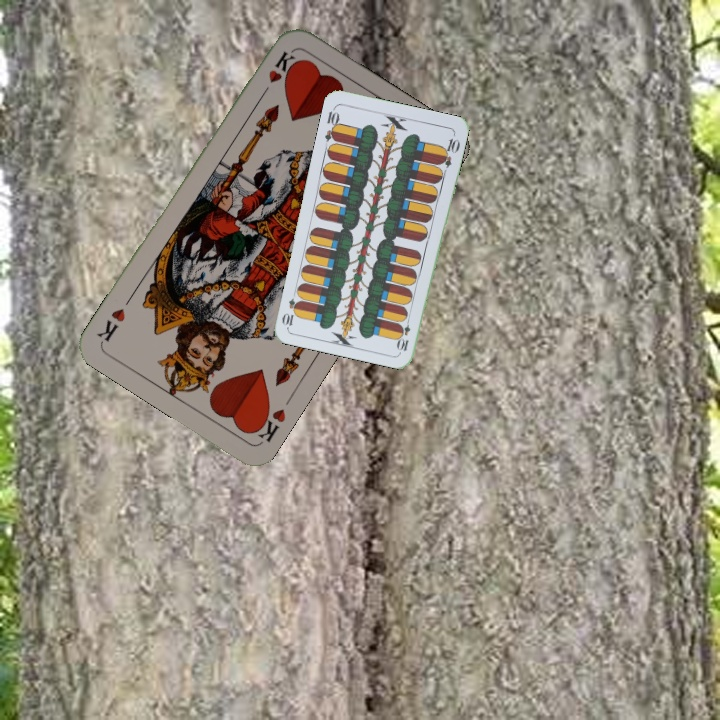E10: (321, 103, 342, 144), (395, 313, 413, 353)
HK: (256, 47, 298, 100), (247, 400, 289, 445)
